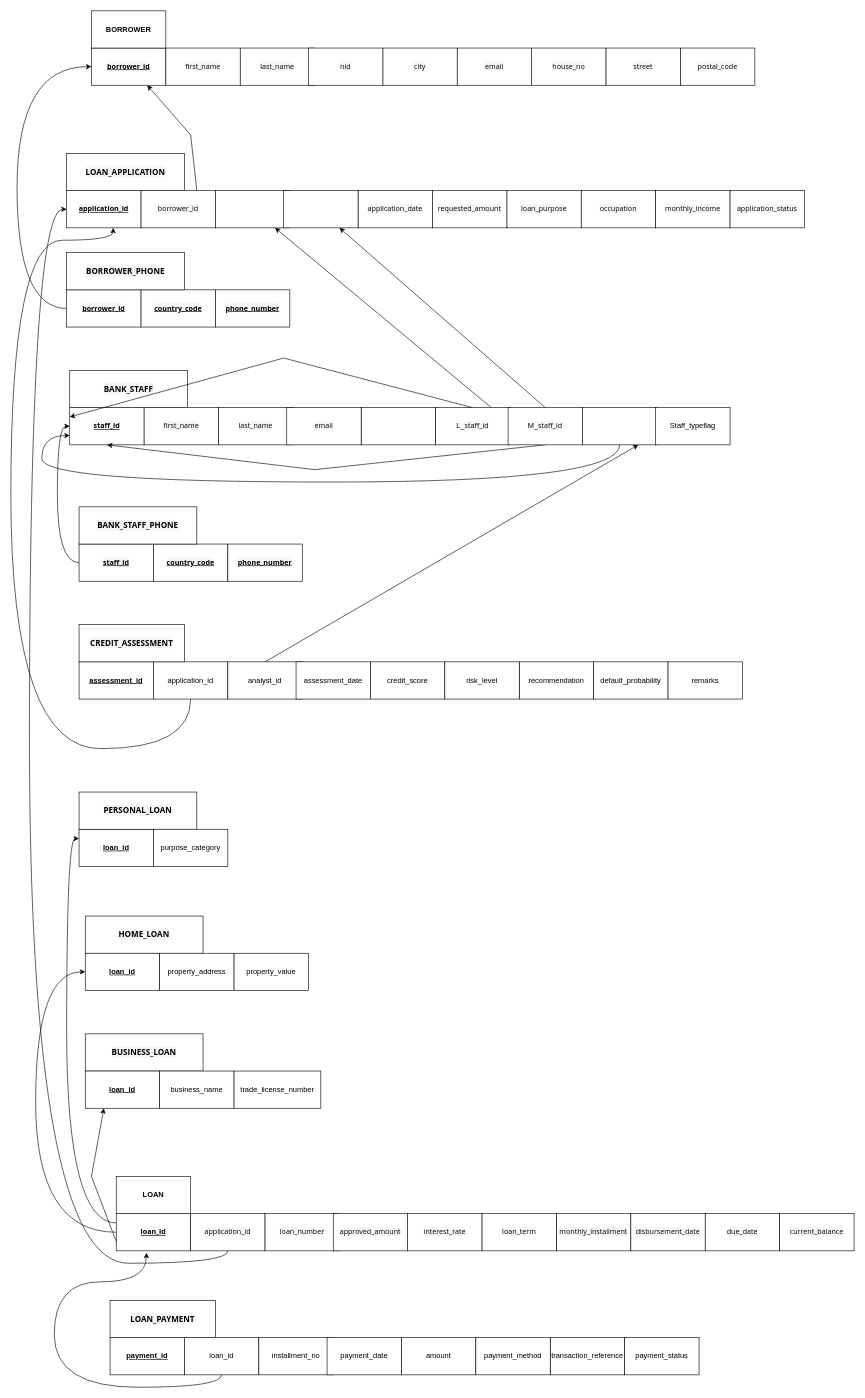
The diagram is 865 pixels wide and 1398 high, and some of its shapes have lost their labels. Each missing label, with the box of its shape:
A_ staff_id: (582, 407, 657, 445)
loan_officer_id: (215, 190, 290, 228)
manager_id: (283, 190, 358, 228)
password_hash: (361, 407, 436, 445)
